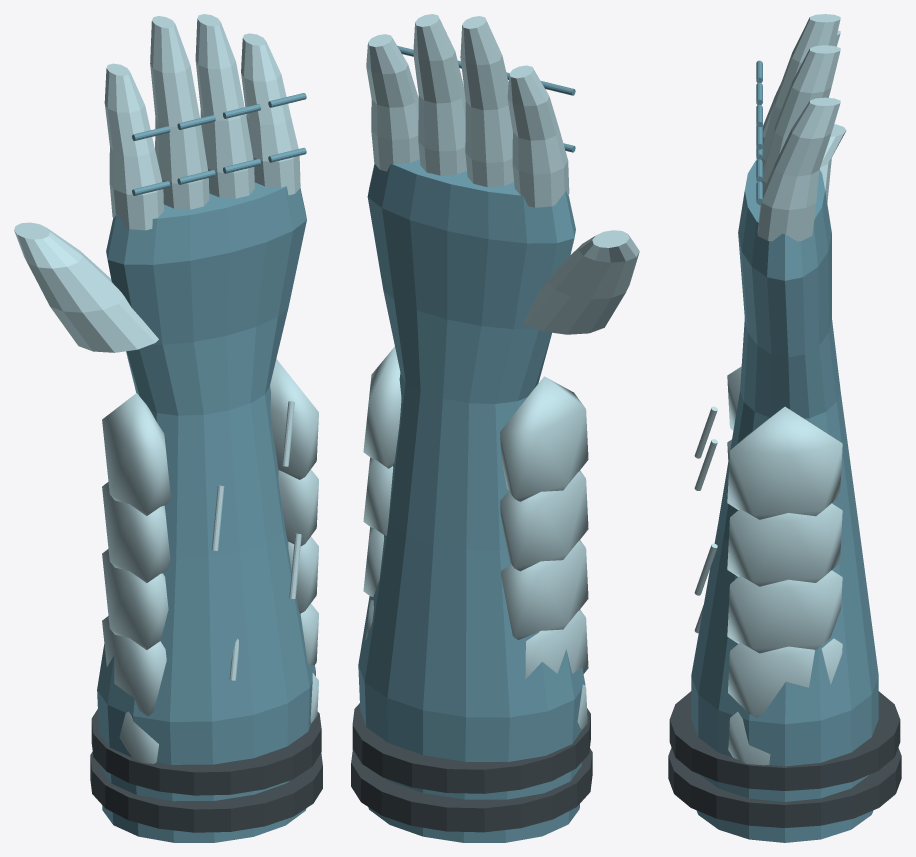
The model's file is ice_arm.glb.
The picture shows the model from 3 angles, left to right: view 1: azimuth 30°, elevation 25°; view 2: azimuth 150°, elevation 25°; view 3: azimuth 270°, elevation 25°; orthographic projection. The views are drawn at different scales.
Visible parts, largest first — view 1: Forearm, Thumb, Cuff, Finger_1, Cuff.001, Finger_2, Finger_0, Ice_plate.008, Finger_3, Ice_plate.006, Ice_plate.004, Ice_plate.009 (+5 smaller); view 2: Forearm, Cuff, Cuff.001, Ice_plate.008, Thumb, Finger_1, Finger_2, Finger_0, Ice_plate.006, Finger_3, Ice_plate.004, Ice_plate.009 (+3 smaller); view 3: Forearm, Ice_plate.009, Cuff.001, Ice_plate.007, Cuff, Ice_plate.005, Finger_3, Ice_plate.003, Finger_2, Finger_1, Ice_plate.001, Thumb (+1 smaller).
Boxes of the visible parts, x1,y1,x2,y2 form: Forearm: [97, 182, 315, 842]; Thumb: [14, 222, 158, 352]; Cuff: [90, 752, 322, 832]; Finger_1: [150, 16, 209, 209]; Cuff.001: [91, 709, 321, 795]; Finger_2: [195, 14, 254, 198]; Finger_0: [104, 63, 163, 230]; Ice_plate.008: [102, 393, 171, 515]; Finger_3: [241, 33, 300, 195]; Ice_plate.006: [102, 482, 170, 582]; Ice_plate.004: [102, 549, 168, 649]; Ice_plate.009: [270, 359, 318, 479]; Forearm: [358, 159, 585, 842]; Cuff: [351, 748, 592, 832]; Cuff.001: [352, 703, 590, 793]; Ice_plate.008: [500, 376, 588, 501]; Thumb: [523, 230, 639, 334]; Finger_1: [460, 16, 513, 187]; Finger_2: [413, 14, 466, 175]; Finger_0: [507, 65, 569, 207]; Ice_plate.006: [500, 470, 588, 571]; Finger_3: [366, 34, 419, 171]; Ice_plate.004: [501, 540, 588, 639]; Ice_plate.009: [363, 346, 401, 468]; Forearm: [691, 159, 878, 842]; Ice_plate.009: [727, 406, 842, 519]; Cuff.001: [669, 691, 900, 790]; Ice_plate.007: [727, 503, 842, 586]; Cuff: [668, 747, 901, 827]; Ice_plate.005: [727, 570, 842, 653]; Finger_3: [757, 97, 840, 241]; Ice_plate.003: [728, 638, 842, 717]; Finger_2: [759, 45, 840, 204]; Finger_1: [761, 14, 840, 167]; Ice_plate.001: [728, 712, 770, 765]; Thumb: [819, 124, 846, 202].
Bounding box in the file's own units: 0.464 × 1.26 × 0.348.
